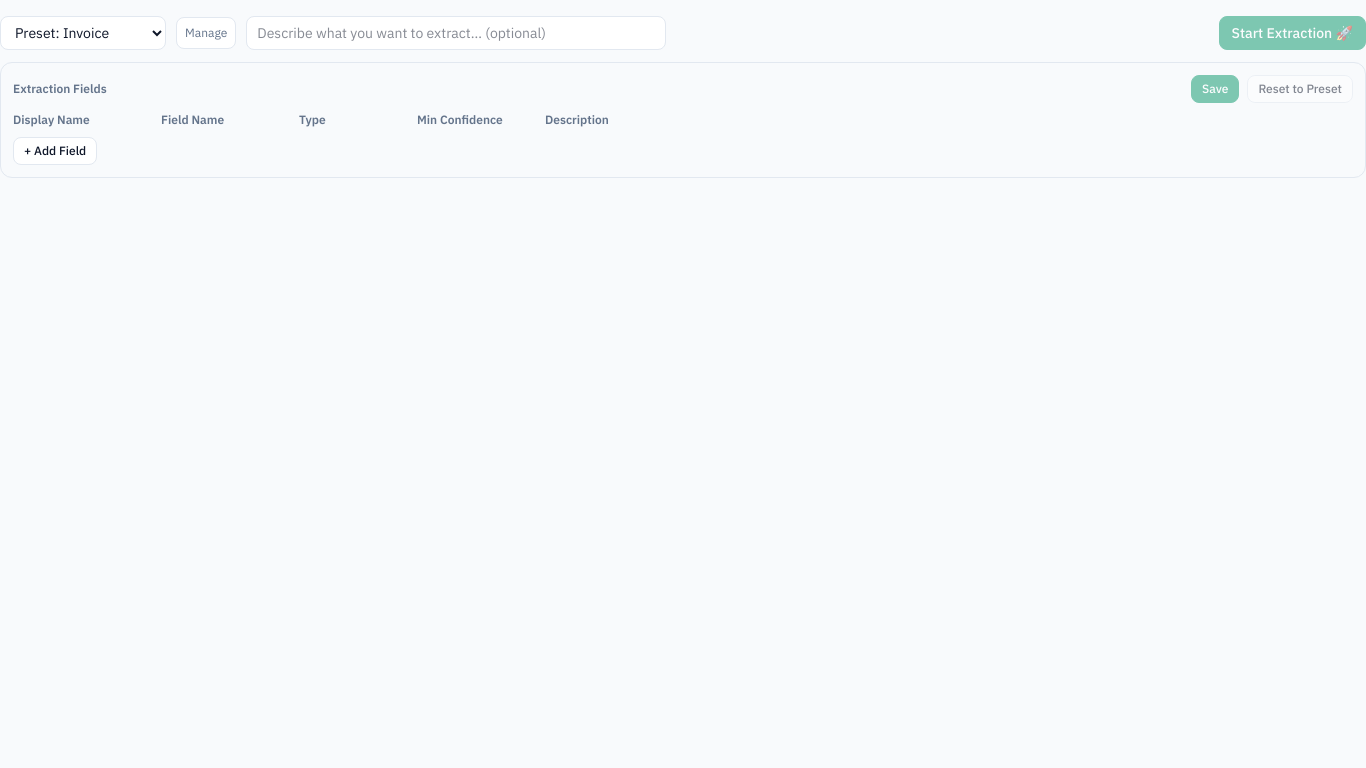
Test: ConfigBar › opens the manage schemas panel when the manage button is clicked
The image size is (1366, 768).
Expected: the dropdown is enabled, [0, 16, 166, 50]
Step 1. Click the button "Manage" → (206, 33), box [176, 17, 236, 49]
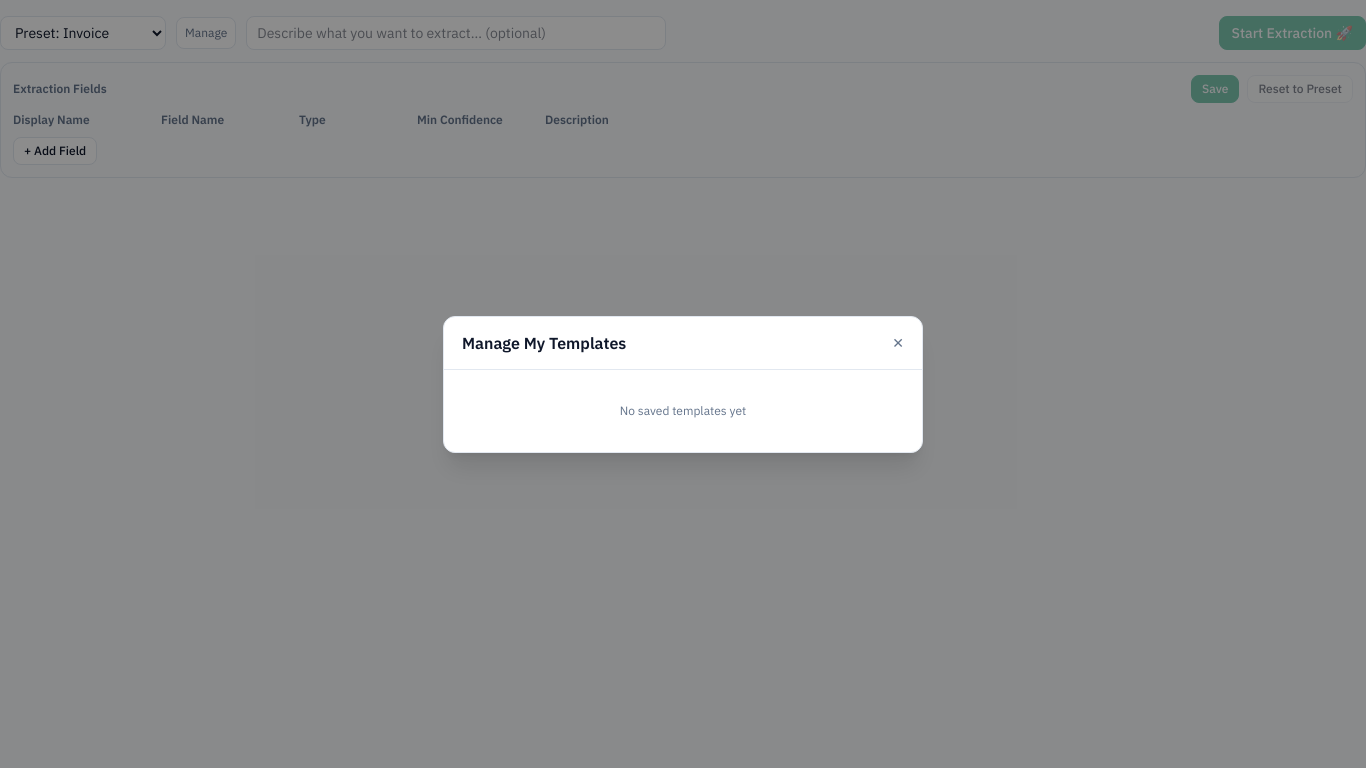
Expected: the dialog is shown, [443, 316, 923, 452]
